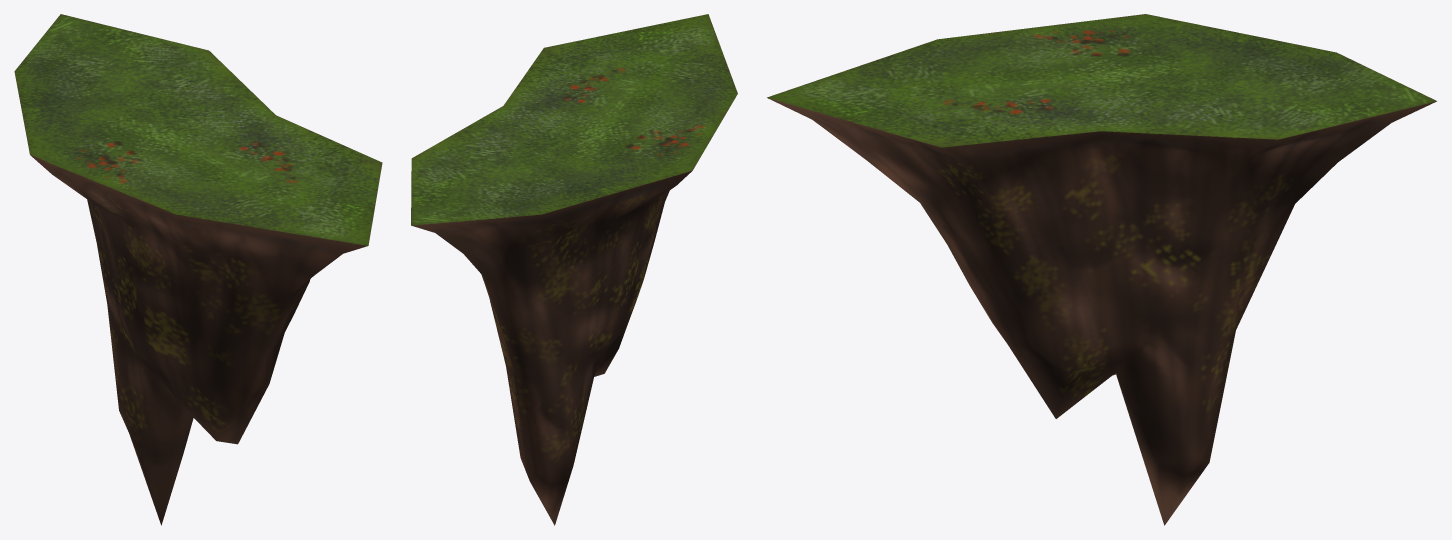
Rendered from Platform1_MESH.fbx.
3 renders of one model, left to right at view 1: azimuth 30°, elevation 25°; view 2: azimuth 150°, elevation 25°; view 3: azimuth 270°, elevation 25°, orthographic. The views are drawn at different scales.
Parts seen in each view (by area): view 1: Platform1WIP1:pCube1; view 2: Platform1WIP1:pCube1; view 3: Platform1WIP1:pCube1.
Boxes of the visible parts, x1,y1,x2,y2 form: Platform1WIP1:pCube1: [14, 14, 382, 525]; Platform1WIP1:pCube1: [411, 14, 737, 525]; Platform1WIP1:pCube1: [767, 14, 1436, 525].
Size of the model in its own units: 25.18 by 38.58 by 53.45.
Materials: 1 (1 with a texture image).
